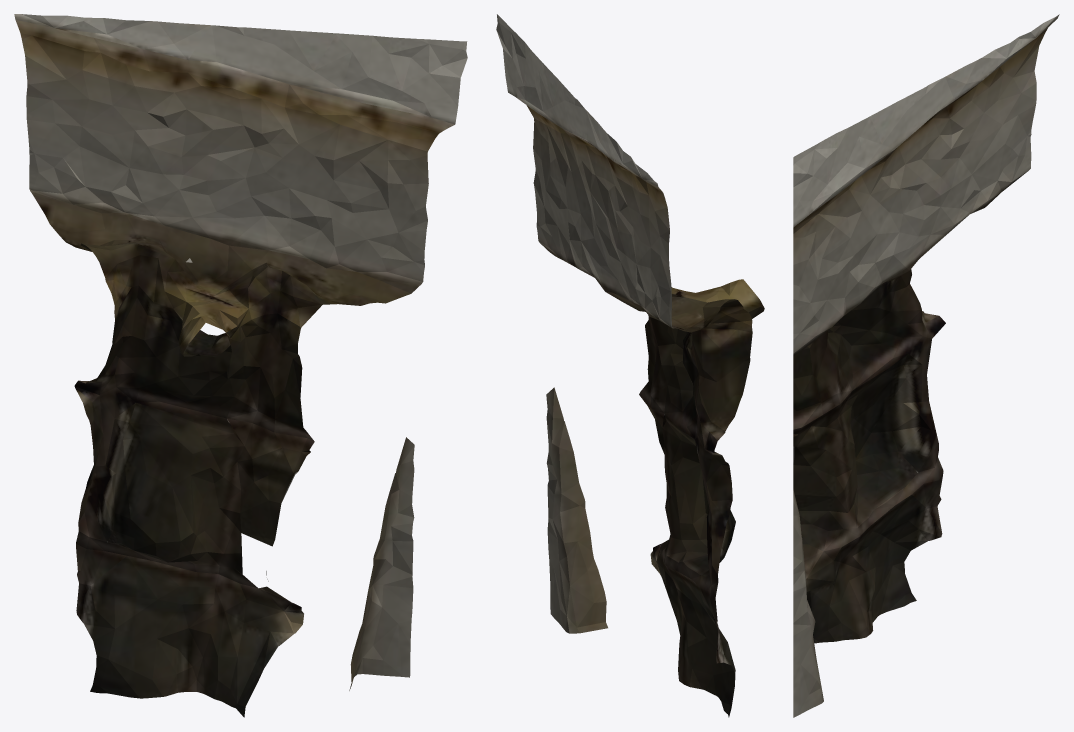
3 renders of one model, left to right at view 1: azimuth 30°, elevation 25°; view 2: azimuth 150°, elevation 25°; view 3: azimuth 270°, elevation 25°, orthographic. The views are drawn at different scales.
Size of the model in its own units: 0.4398 by 0.8374 by 0.3447.
2 materials, 2 textured.
